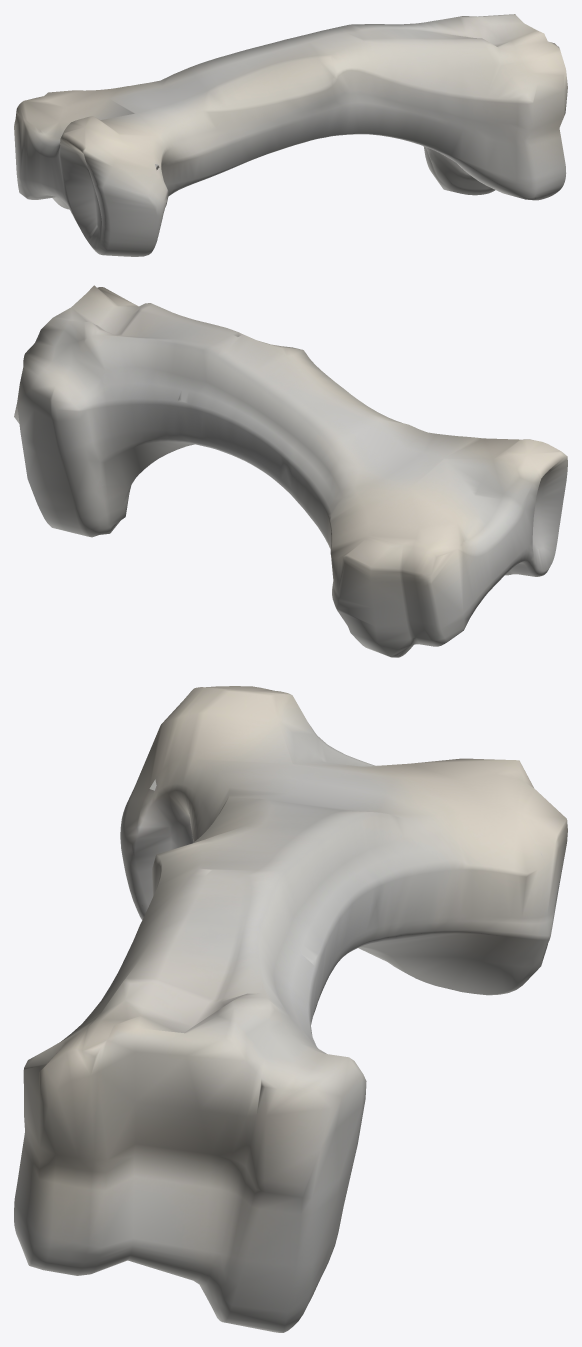
Rendered from bone.glb.
3 views of the same model, one above another, from view 1: azimuth 30°, elevation 25°; view 2: azimuth 150°, elevation 25°; view 3: azimuth 270°, elevation 25° (orthographic). The views are drawn at different scales.
Parts seen in each view (by area): view 1: tripo_node_d05ad8f3-a9f7-499f-8a1a-3d6e61d0e21b; view 2: tripo_node_d05ad8f3-a9f7-499f-8a1a-3d6e61d0e21b; view 3: tripo_node_d05ad8f3-a9f7-499f-8a1a-3d6e61d0e21b.
Part boxes in pixels (bbox=[...]): tripo_node_d05ad8f3-a9f7-499f-8a1a-3d6e61d0e21b: bbox=[14, 14, 567, 256]; tripo_node_d05ad8f3-a9f7-499f-8a1a-3d6e61d0e21b: bbox=[14, 285, 567, 657]; tripo_node_d05ad8f3-a9f7-499f-8a1a-3d6e61d0e21b: bbox=[14, 686, 567, 1332].
Bounding box in the file's own units: 0.9995 × 0.4019 × 0.5854.
Materials: 1 (1 with a texture image).
